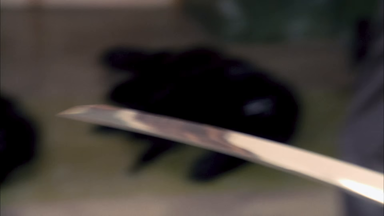bladed_weapon: (52, 100, 383, 209)
